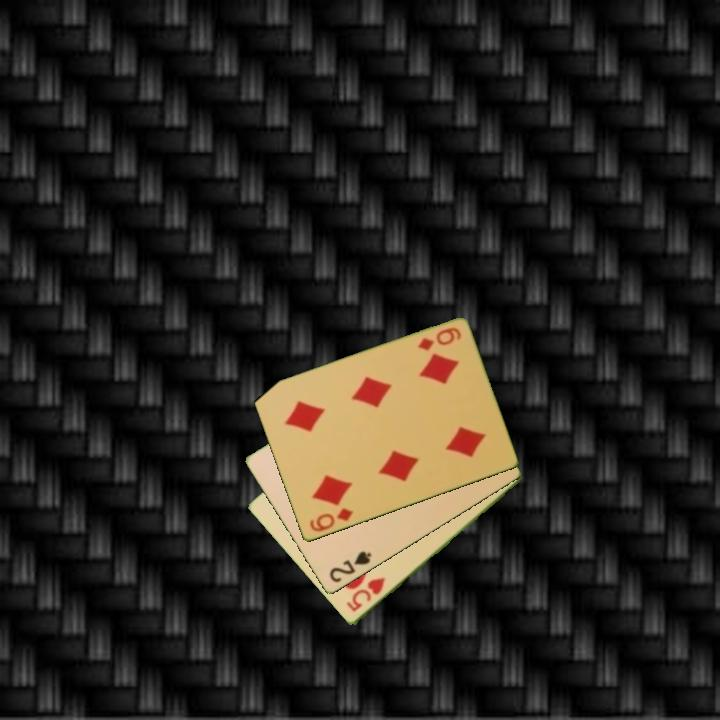2s: (326, 548, 374, 586)
5h: (343, 574, 388, 615)
6d: (306, 505, 356, 535), (414, 324, 464, 354)
